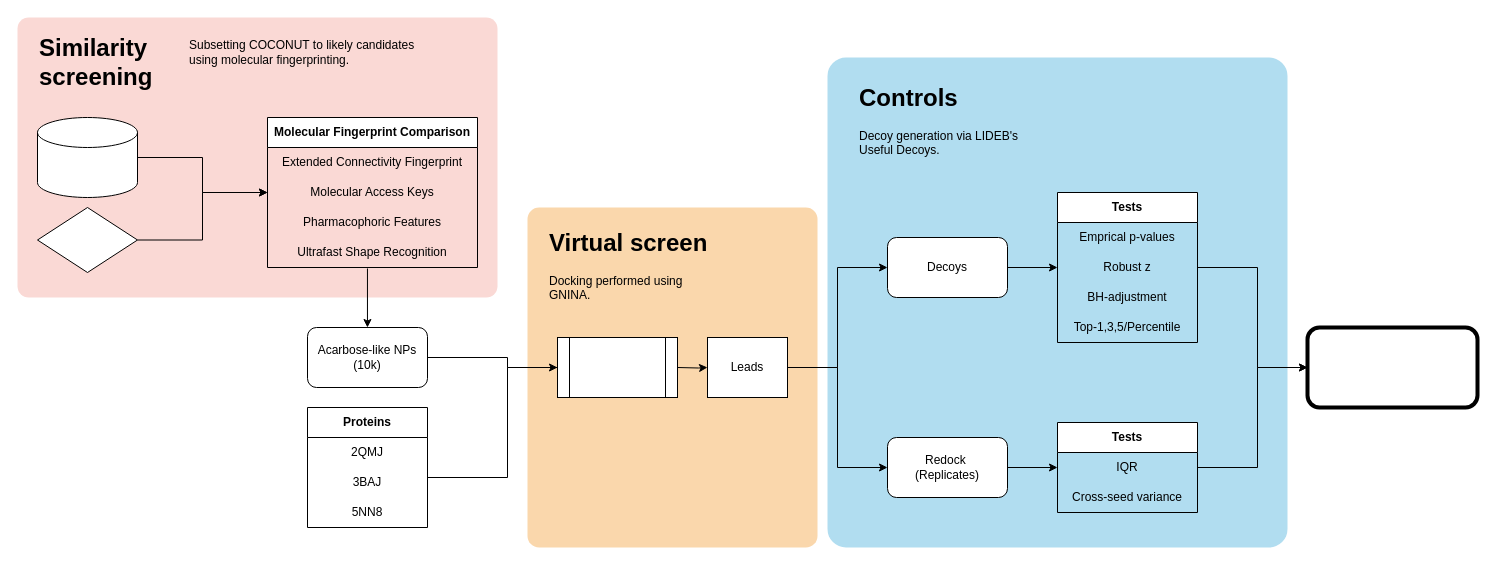
Some shapes in this 1496 by 564 pixel diagram are drawn without their labels. The shapes that lost their labels are listed below. From the top down, each one's centre as x and y in pixels, then its label:
point (87, 157): COCONUT
point (87, 239): Acarbose
point (617, 367): GNINA Virtual Screen
point (1392, 367): Top Natural Product Candidates for Acarbose Alternatives
